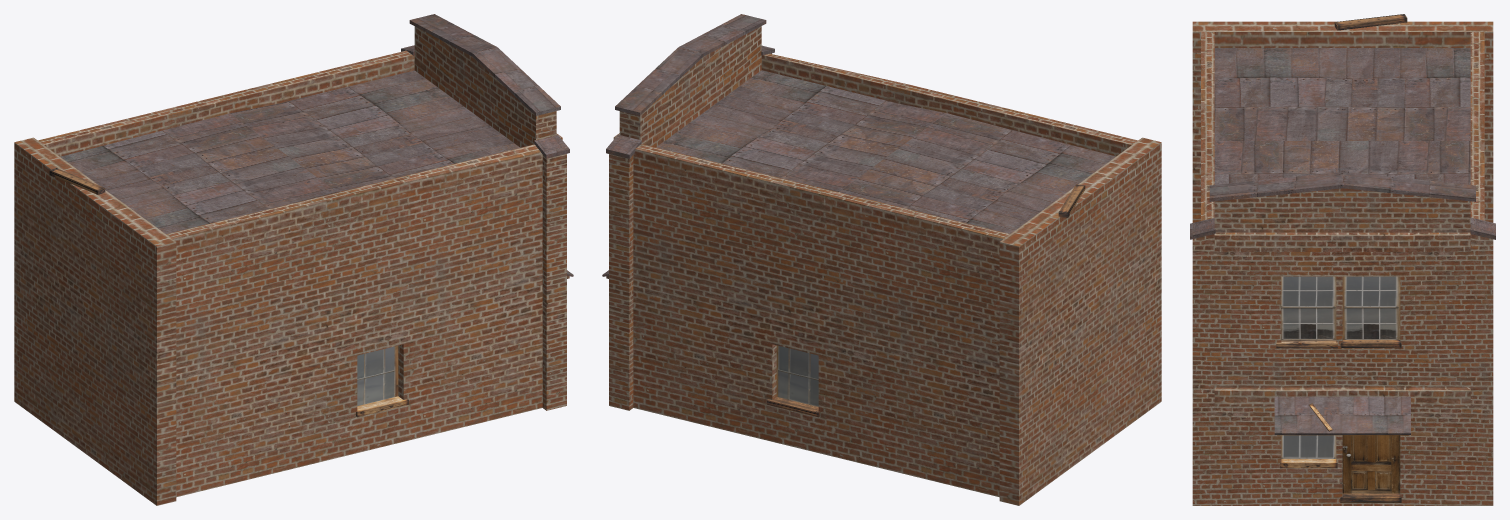
The model's file is old brick house.fbx.
The picture shows the model from 3 angles, left to right: view 1: azimuth 30°, elevation 25°; view 2: azimuth 150°, elevation 25°; view 3: azimuth 270°, elevation 25°; orthographic projection. The views are drawn at different scales.
Parts seen in each view (by area): view 1: old_brick_house____1_; view 2: old_brick_house____1_; view 3: old_brick_house____1_.
Part boxes in pixels (x1,y1,x2,y2): old_brick_house____1_: (14, 14, 573, 505); old_brick_house____1_: (602, 14, 1161, 505); old_brick_house____1_: (1190, 14, 1495, 505).
Size of the model in its own units: 8544 by 5396 by 4643.
1 material, 1 textured.
